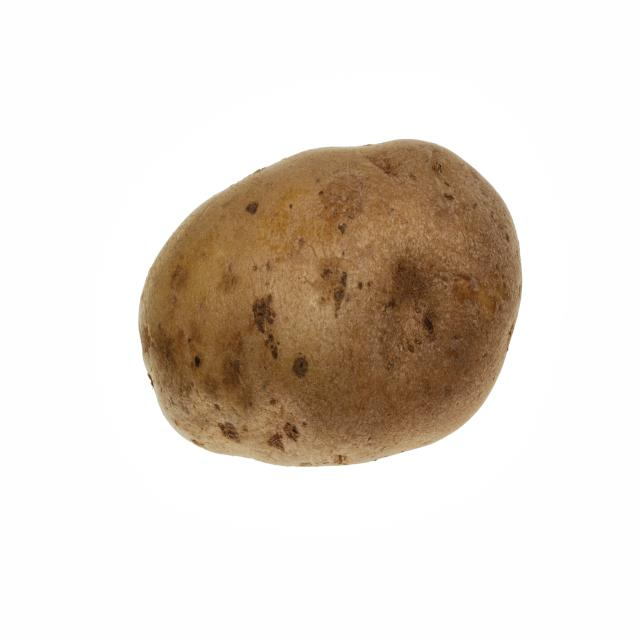potato: (139, 141, 522, 467)
